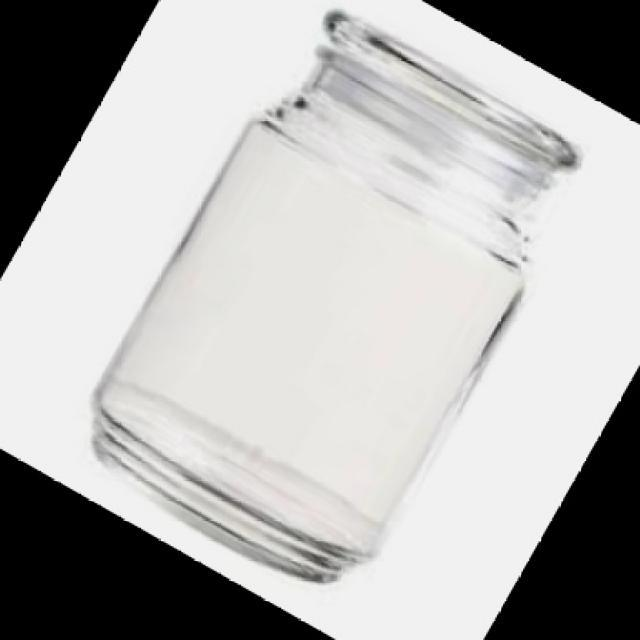Glass: (90, 8, 581, 583)
